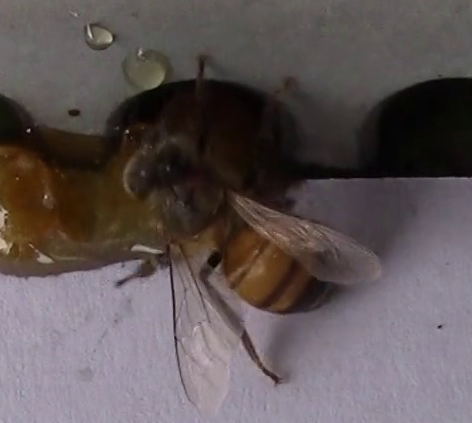Healthy: (111, 54, 389, 414)
